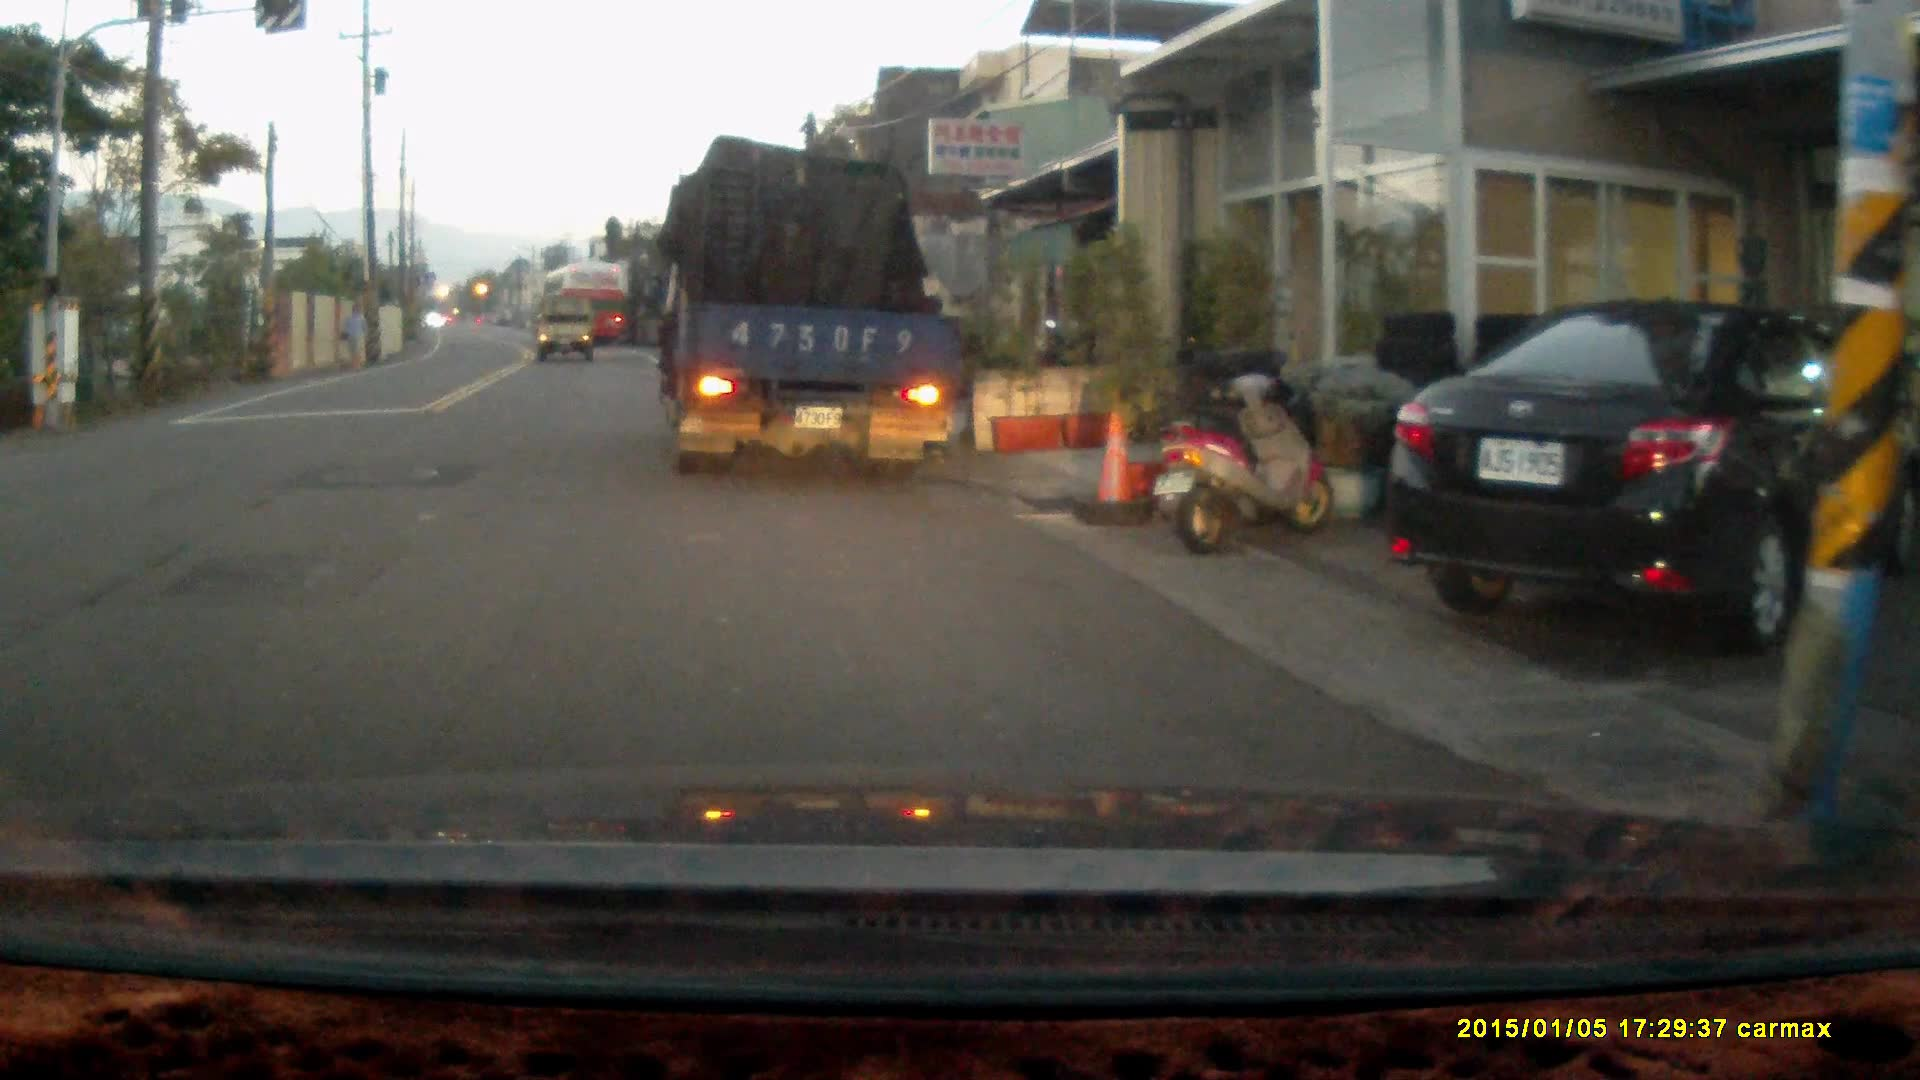pedestrian: (332, 297, 365, 367)
vehicle: (1374, 291, 1914, 646), (651, 143, 953, 487), (544, 261, 633, 340), (538, 295, 598, 367)
